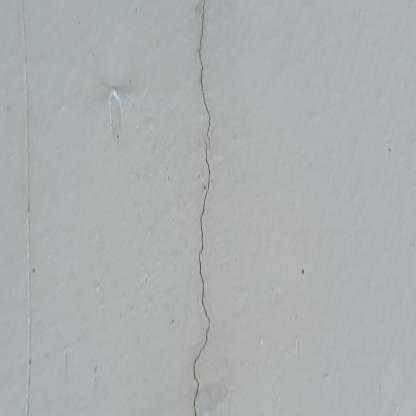crack: (193, 137, 210, 415), (199, 3, 210, 146)
